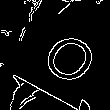O_NE: (31, 16, 100, 82)
